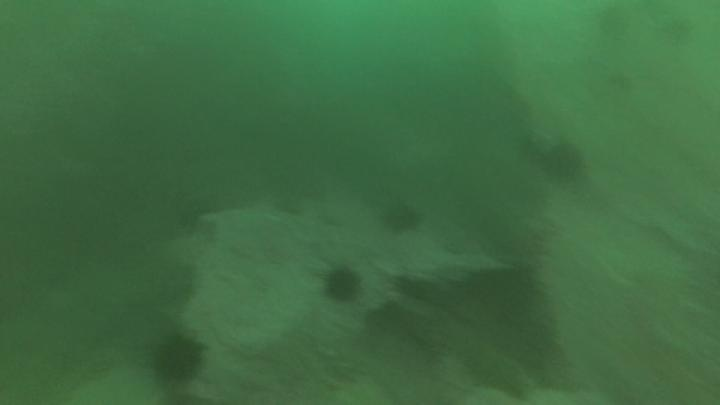echinus: (149, 330, 208, 387), (541, 139, 587, 184), (321, 264, 364, 305), (379, 198, 423, 236), (594, 4, 634, 42)
